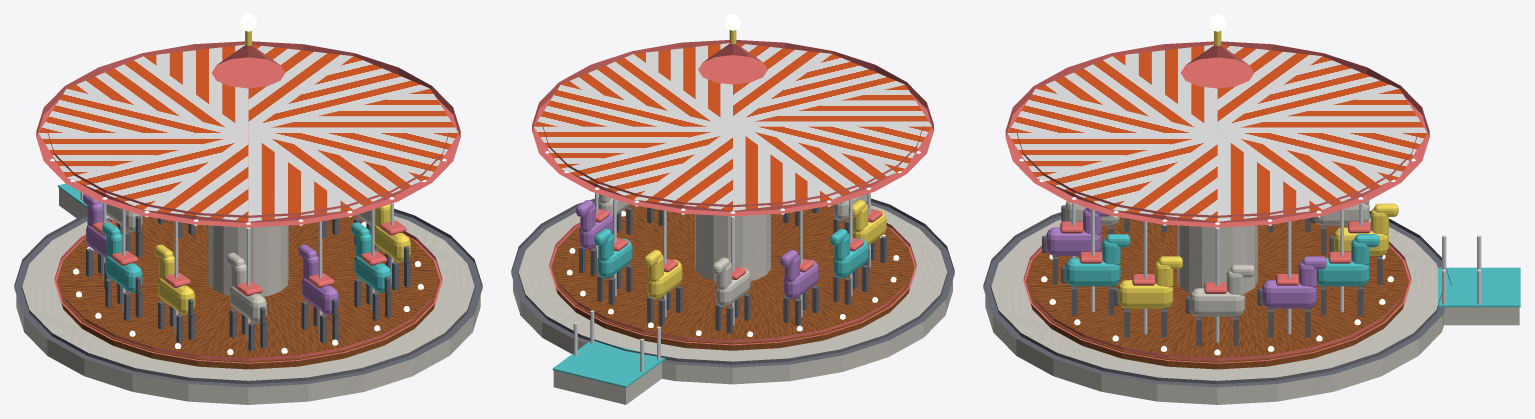
File: carousel.glb
3 views of the same model, side by side, from view 1: azimuth 30°, elevation 25°; view 2: azimuth 150°, elevation 25°; view 3: azimuth 270°, elevation 25° (orthographic). The views are drawn at different scales.
Visible parts, largest first — view 1: carousel/stripe, carousel/timber, theme-park-rides-and-coasters-carousel, carousel/red, carousel/cream, carousel/charcoal, carousel/teal, carousel/yellow, carousel/purple, carousel/steel, carousel/bulb; view 2: carousel/stripe, theme-park-rides-and-coasters-carousel, carousel/timber, carousel/red, carousel/cream, carousel/charcoal, carousel/teal, carousel/yellow, carousel/purple, carousel/steel, carousel/bulb; view 3: carousel/stripe, theme-park-rides-and-coasters-carousel, carousel/timber, carousel/red, carousel/cream, carousel/teal, carousel/purple, carousel/yellow, carousel/charcoal, carousel/steel, carousel/bulb.
Part boxes in pixels (x1,y1,x2,y2): carousel/stripe: (38,44,458,221); carousel/timber: (56,215,440,369); theme-park-rides-and-coasters-carousel: (14,183,482,404); carousel/red: (36,41,460,363); carousel/cream: (106,204,374,323); carousel/charcoal: (86,215,410,351); carousel/teal: (102,222,391,292); carousel/yellow: (154,31,410,315); carousel/purple: (83,194,338,315); carousel/steel: (103,203,393,342); carousel/bulb: (50,14,446,354); carousel/stripe: (534,43,931,210); theme-park-rides-and-coasters-carousel: (511,197,954,404); carousel/timber: (551,204,914,350); carousel/red: (532,40,933,345); carousel/cream: (598,194,867,307); carousel/charcoal: (579,207,886,333); carousel/teal: (594,228,868,278); carousel/yellow: (644,30,886,299); carousel/purple: (576,200,818,299); carousel/steel: (595,193,870,325); carousel/bulb: (545,14,920,336); carousel/stripe: (1007,44,1427,221); theme-park-rides-and-coasters-carousel: (983,211,1520,404); carousel/timber: (1025,217,1409,369); carousel/red: (1005,41,1429,363); carousel/cream: (1065,200,1369,316); carousel/teal: (1065,234,1379,286); carousel/purple: (1046,208,1326,308); carousel/yellow: (1118,31,1398,308); carousel/charcoal: (1042,205,1382,345); carousel/steel: (1072,203,1362,342); carousel/bulb: (1019,14,1415,355).
Bounding box in the file's own units: 12.7 × 8.74 × 14.57.
Materials: 10 (3 with a texture image).
